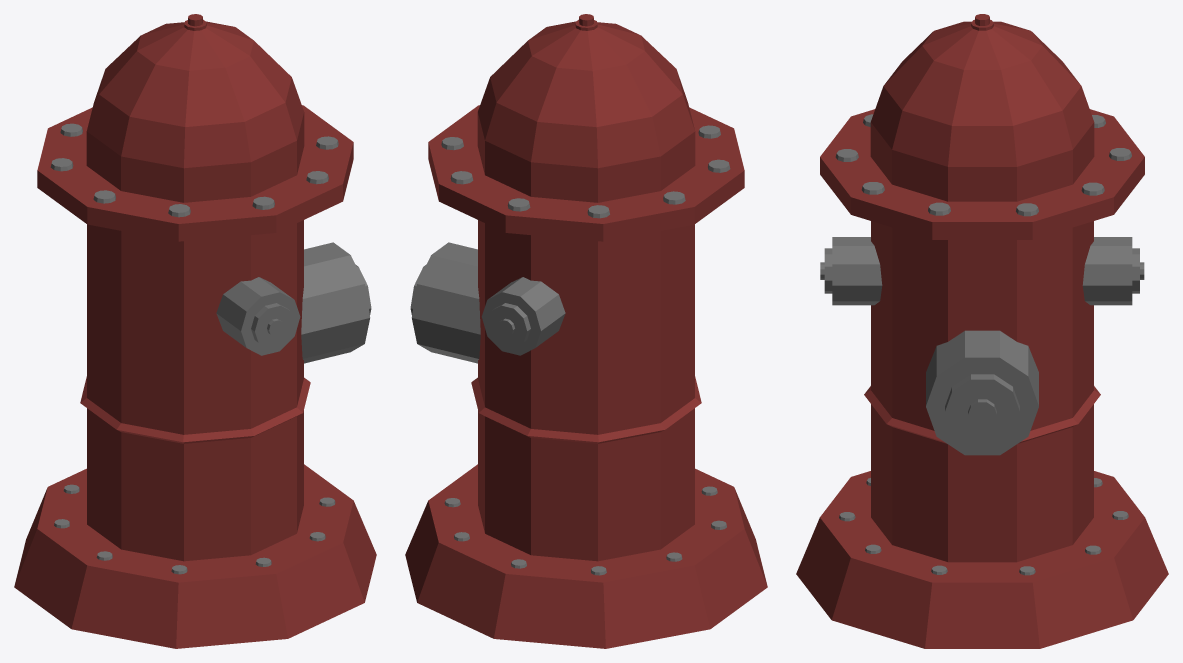
Rendered from FireHydrant.fbx.
3 renders of one model, left to right at view 1: azimuth 30°, elevation 25°; view 2: azimuth 150°, elevation 25°; view 3: azimuth 270°, elevation 25°, orthographic.
Visible parts, largest first — view 1: Circle, Circle.001, Circle.003; view 2: Circle, Circle.001, Circle.002; view 3: Circle, Circle.001, Circle.003, Circle.002.
Boxes of the visible parts, x1=… form: Circle: x1=14, y1=14, x2=376, y2=648; Circle.001: x1=301, y1=242, x2=371, y2=363; Circle.003: x1=216, y1=277, x2=300, y2=355; Circle: x1=405, y1=14, x2=767, y2=648; Circle.001: x1=410, y1=242, x2=480, y2=363; Circle.002: x1=481, y1=277, x2=565, y2=355; Circle: x1=796, y1=14, x2=1168, y2=648; Circle.001: x1=926, y1=330, x2=1038, y2=455; Circle.003: x1=820, y1=237, x2=882, y2=305; Circle.002: x1=1082, y1=237, x2=1144, y2=305.
Size of the model in its own units: 226 by 378 by 229.
